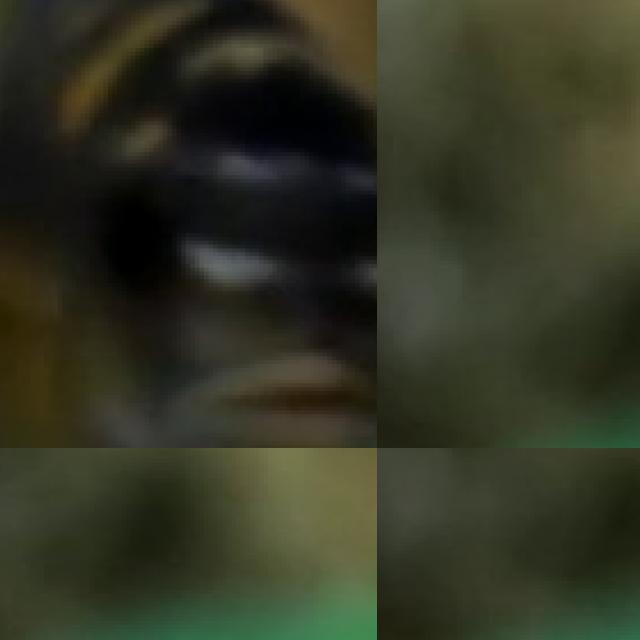fish: (0, 0, 377, 448), (240, 448, 377, 640)
